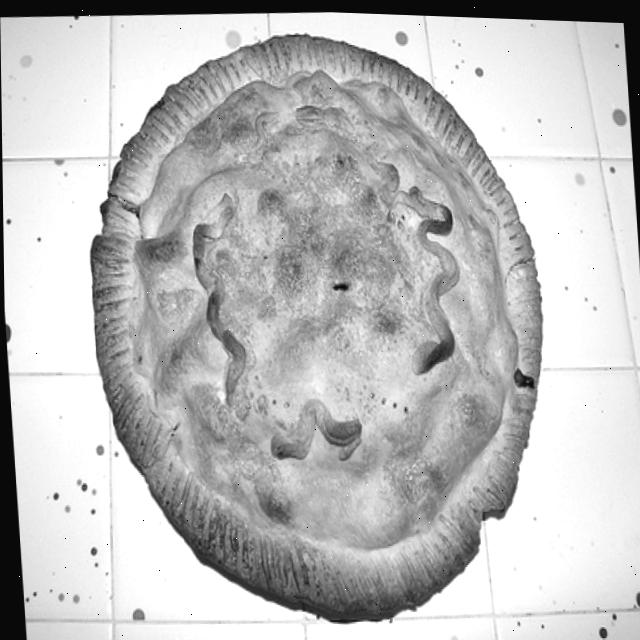炸货点心: (15, 0, 593, 640)
蛋糕甜品: (15, 0, 593, 640)
